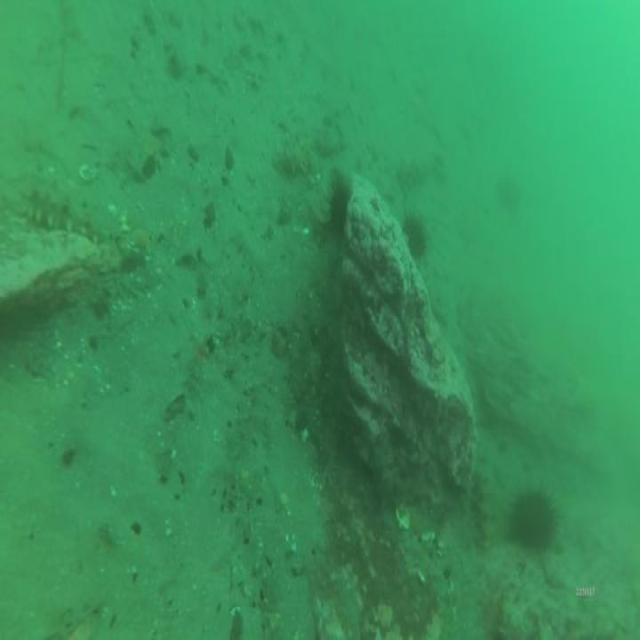echinus: (506, 479, 562, 559), (399, 207, 431, 265), (326, 182, 351, 240), (495, 172, 524, 216)
holothurian: (22, 180, 124, 250), (394, 140, 447, 198), (268, 133, 322, 183), (470, 468, 500, 556)
